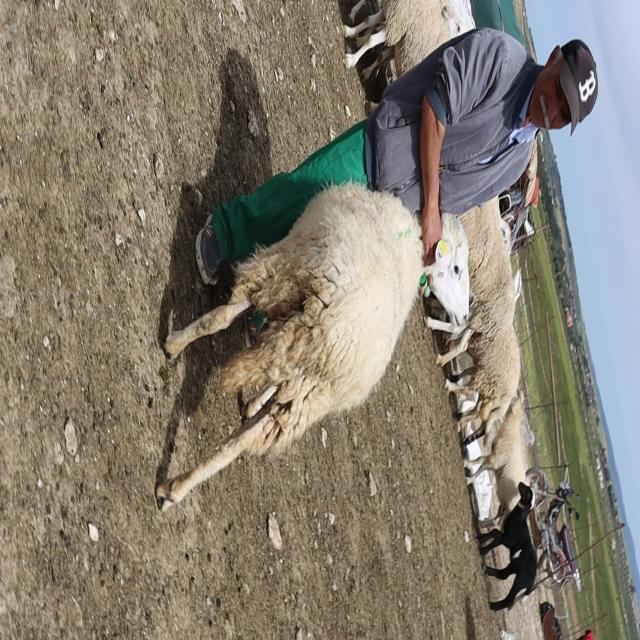Score_4: (155, 184, 470, 509)
